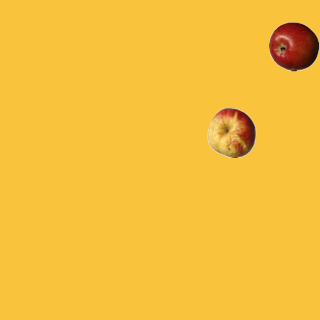Apple Braeburn: (268, 21, 318, 71)
Apple Red Yellow 1: (206, 107, 256, 157)
